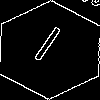I: (25, 25, 65, 71)
